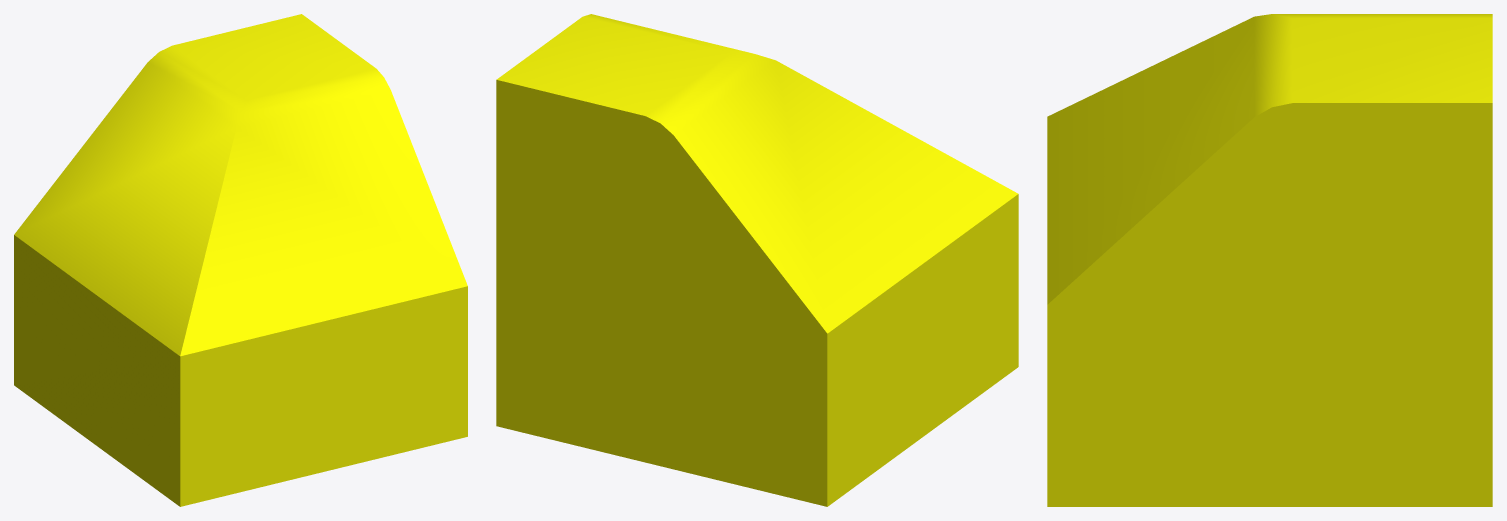
Rendered from kaykit-terrain-slope-outer-corner.glb.
The picture shows the model from 3 angles, left to right: view 1: azimuth 30°, elevation 25°; view 2: azimuth 150°, elevation 25°; view 3: azimuth 270°, elevation 25°; orthographic projection. The views are drawn at different scales.
Visible parts, largest first — view 1: terrain_slope_outer_corner; view 2: terrain_slope_outer_corner; view 3: terrain_slope_outer_corner.
Part boxes in pixels (<box>): terrain_slope_outer_corner: <box>14,14,467,506</box>; terrain_slope_outer_corner: <box>496,14,1018,506</box>; terrain_slope_outer_corner: <box>1047,14,1492,506</box>.
Size of the model in its own units: 2 by 2 by 2.
